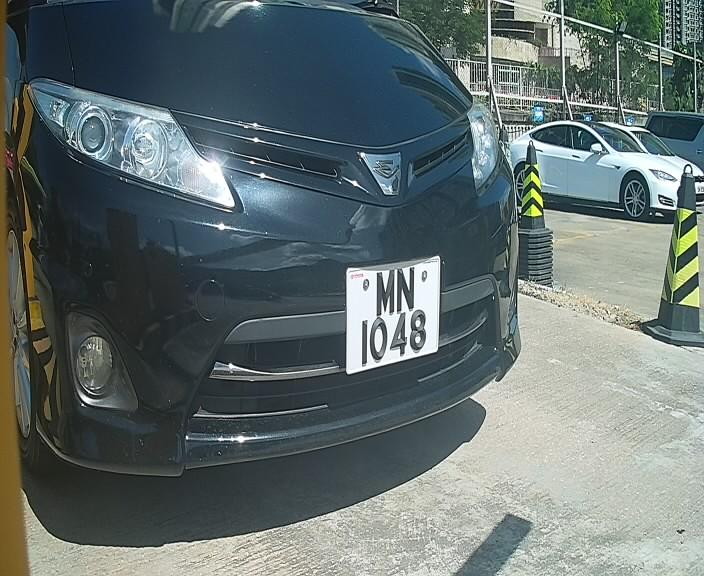License Plate: (337, 250, 444, 386)
